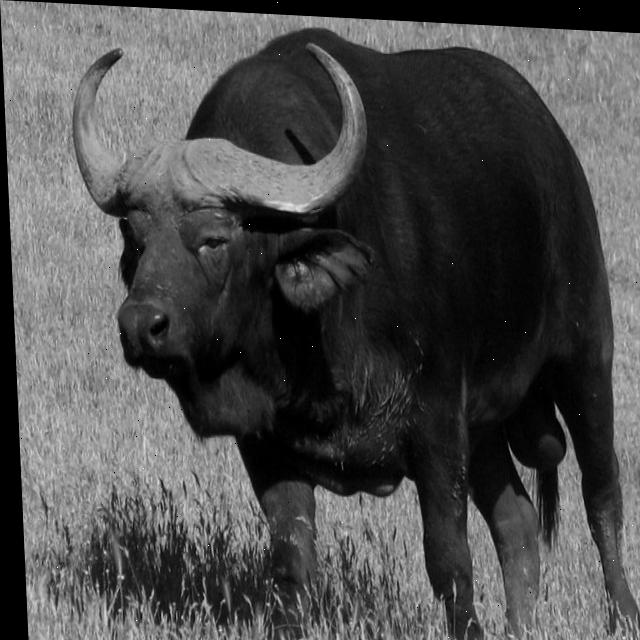Buffalo: (67, 16, 640, 640)
